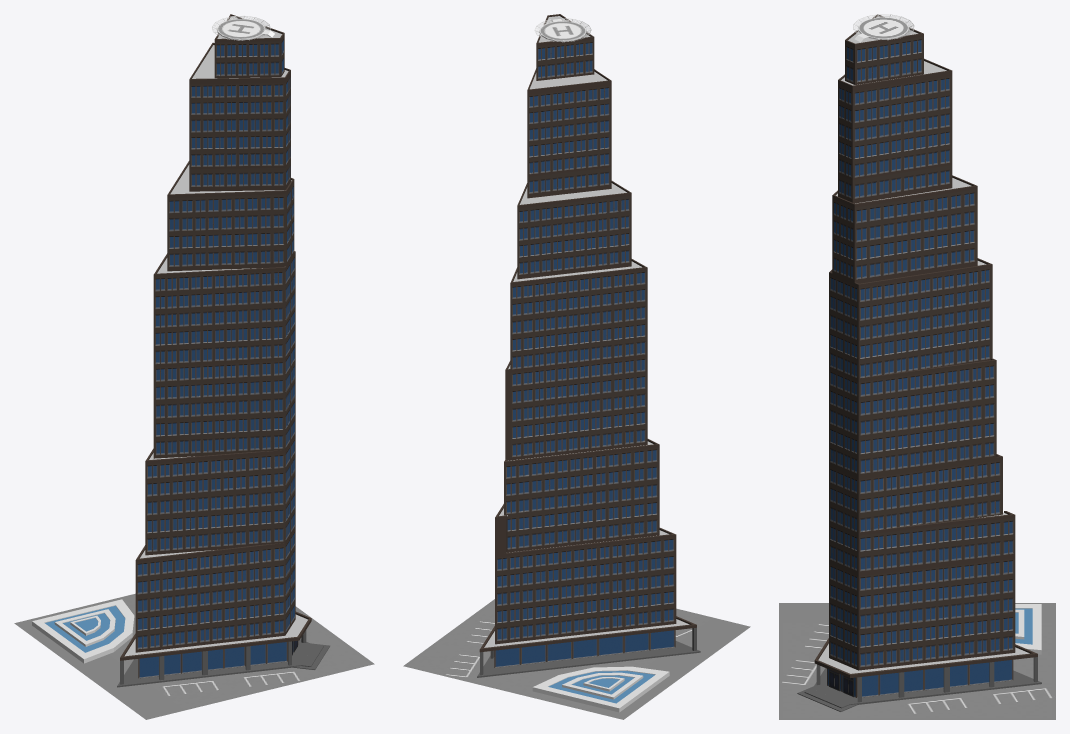
Rendered from Office_Block_Mega.fbx.
3 views of the same model, side by side, from view 1: azimuth 30°, elevation 25°; view 2: azimuth 150°, elevation 25°; view 3: azimuth 270°, elevation 25° (orthographic). The views are drawn at different scales.
Parts seen in each view (by area): view 1: Office_Block_Mega, Office_Block_Mega_BG, Office_Block_Mega_Fontain, HelicopterPlace; view 2: Office_Block_Mega, Office_Block_Mega_BG, Office_Block_Mega_Fontain, HelicopterPlace; view 3: Office_Block_Mega, Office_Block_Mega_BG, Office_Block_Mega_Fontain, HelicopterPlace.
Boxes of the visible parts, x1,y1,x2,y2 form: Office_Block_Mega: (117,14,329,687); Office_Block_Mega_BG: (14,593,374,719); Office_Block_Mega_Fontain: (32,599,134,663); HelicopterPlace: (217,18,274,40); Office_Block_Mega: (477,14,700,677); Office_Block_Mega_BG: (403,599,750,719); Office_Block_Mega_Fontain: (532,666,669,712); HelicopterPlace: (539,19,586,41); Office_Block_Mega: (797,14,1041,711); Office_Block_Mega_BG: (779,603,1055,719); Office_Block_Mega_Fontain: (1015,604,1041,654); HelicopterPlace: (854,17,908,42).
Size of the model in its own units: 4000 by 10357 by 4000.
